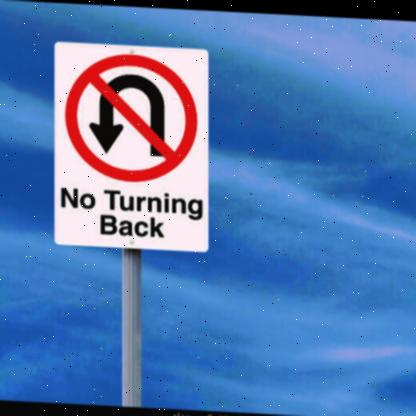No U-turn: (56, 42, 204, 190)
